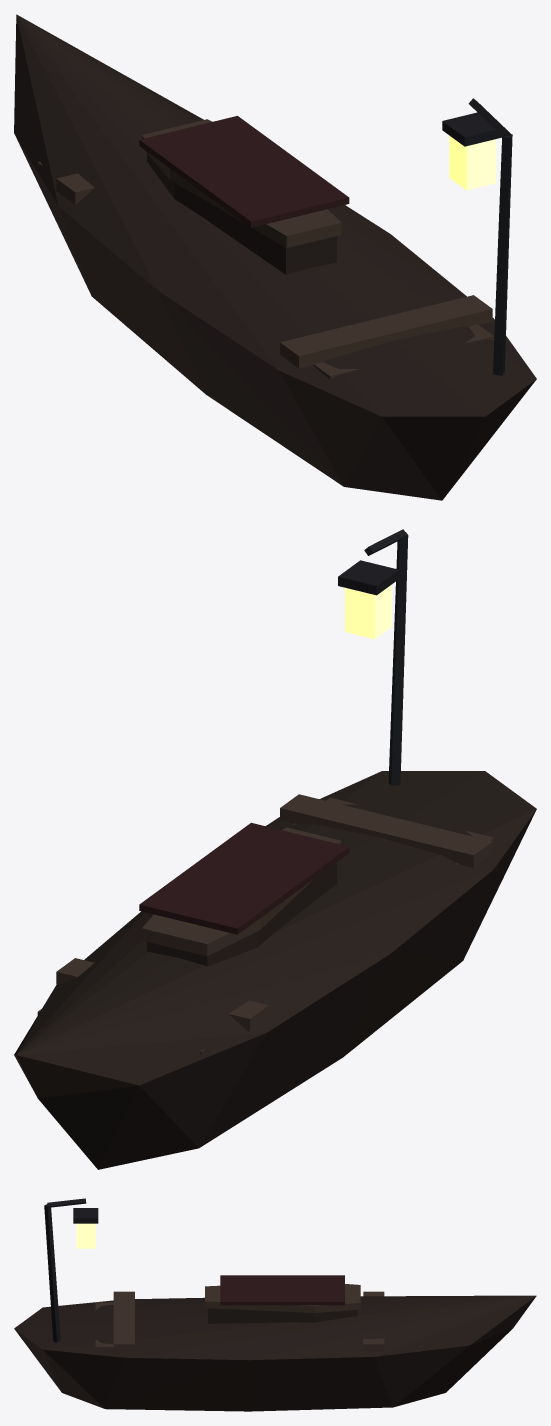
File: gothic_boat.glb
The picture shows the model from 3 angles, top to bottom: view 1: azimuth 30°, elevation 25°; view 2: azimuth 150°, elevation 25°; view 3: azimuth 270°, elevation 25°; orthographic projection. The views are drawn at different scales.
Parts seen in each view (by area): view 1: gothic_boat; view 2: gothic_boat; view 3: gothic_boat.
Part boxes in pixels (x1,y1,x2,y2): gothic_boat: (14, 14, 536, 500); gothic_boat: (14, 529, 536, 1169); gothic_boat: (14, 1198, 536, 1411).
Size of the model in its own units: 1.56 by 2.4 by 5.45.
